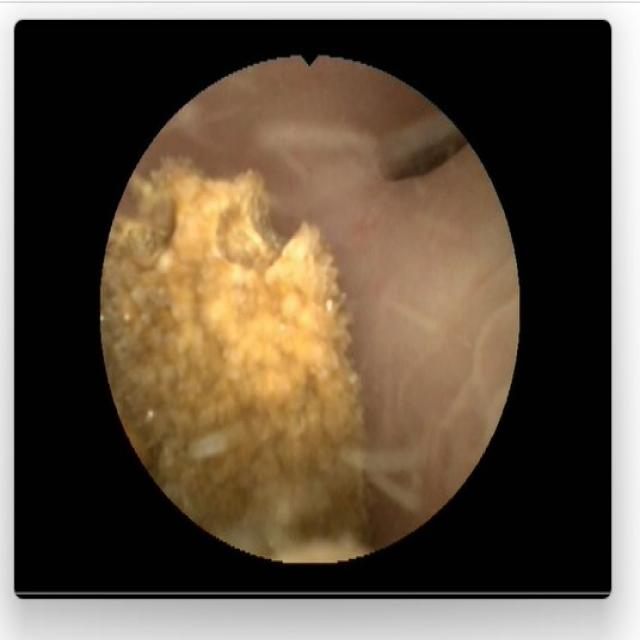stone: (111, 162, 368, 552)
tissue: (164, 61, 511, 532)
